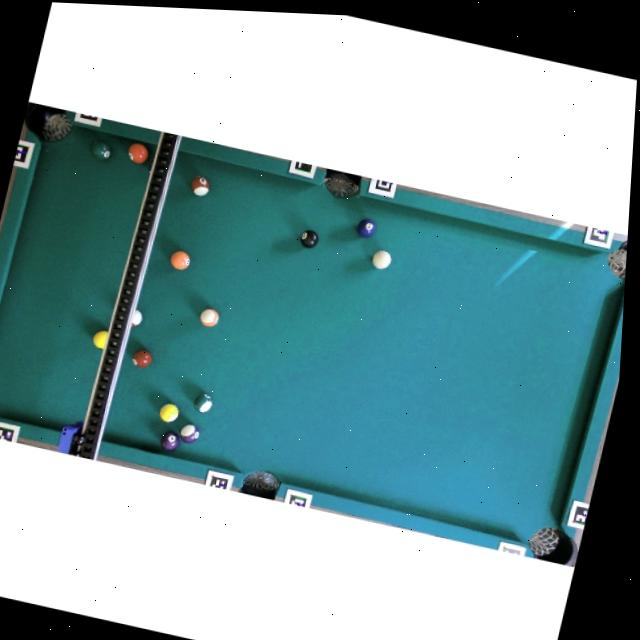cue ball: (369, 247, 393, 271)
other: (88, 138, 114, 162), (158, 428, 182, 453), (126, 141, 150, 165), (167, 249, 192, 272), (298, 226, 321, 250), (355, 216, 378, 240), (188, 174, 212, 197), (191, 391, 214, 415), (157, 401, 180, 424), (130, 347, 153, 370), (178, 422, 201, 445), (197, 306, 220, 328), (90, 328, 108, 350), (130, 308, 144, 327)
